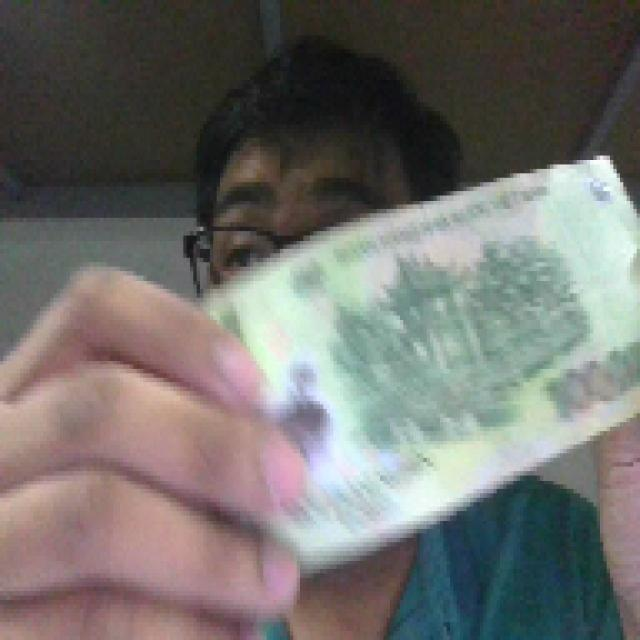100 000 VND: (193, 147, 637, 573)
